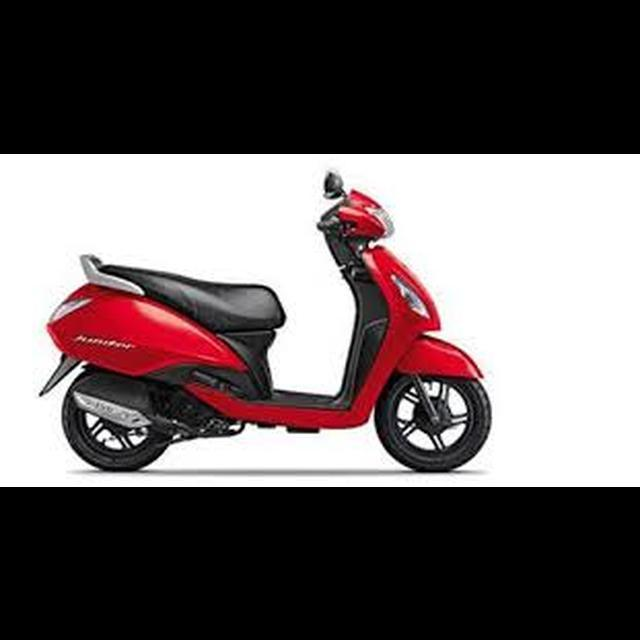motorcycle: (29, 167, 497, 478)
